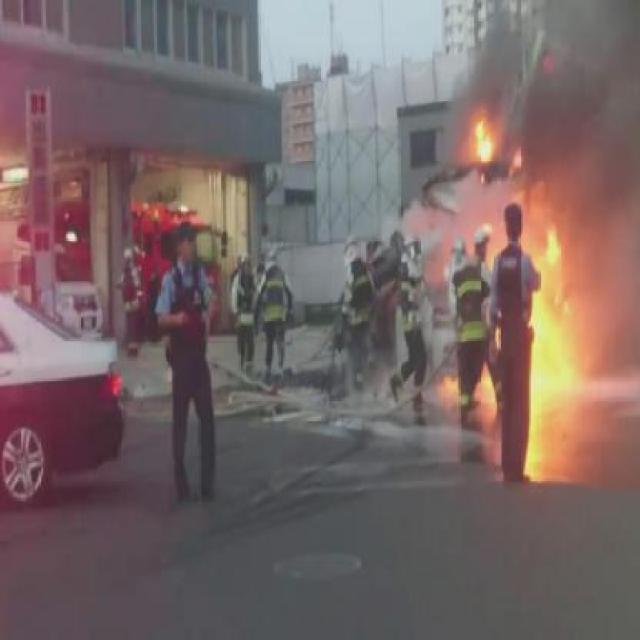Fire: (528, 218, 604, 484), (474, 112, 498, 165), (478, 373, 498, 407), (440, 365, 460, 390)
Smoke: (529, 0, 638, 212), (479, 13, 528, 112)
